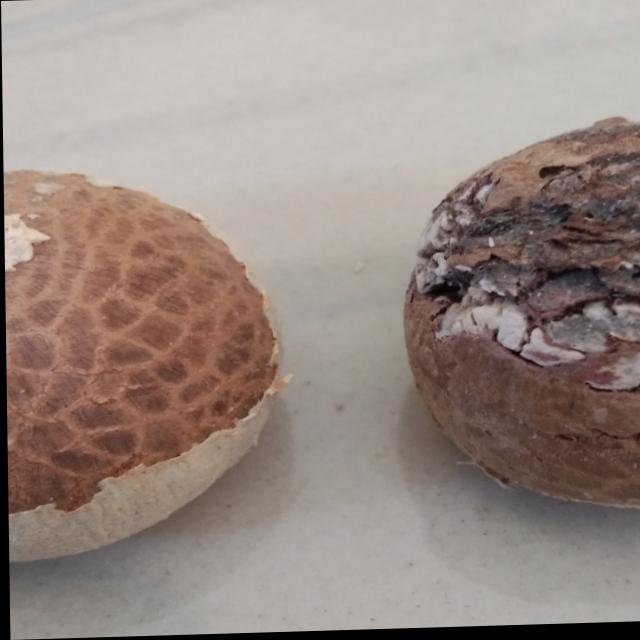karigot: (408, 99, 640, 529)
phatora: (2, 163, 288, 564)
